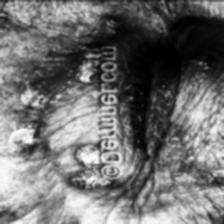Non-Cancerous Skin Condition: (0, 0, 97, 210), (126, 6, 224, 192)
